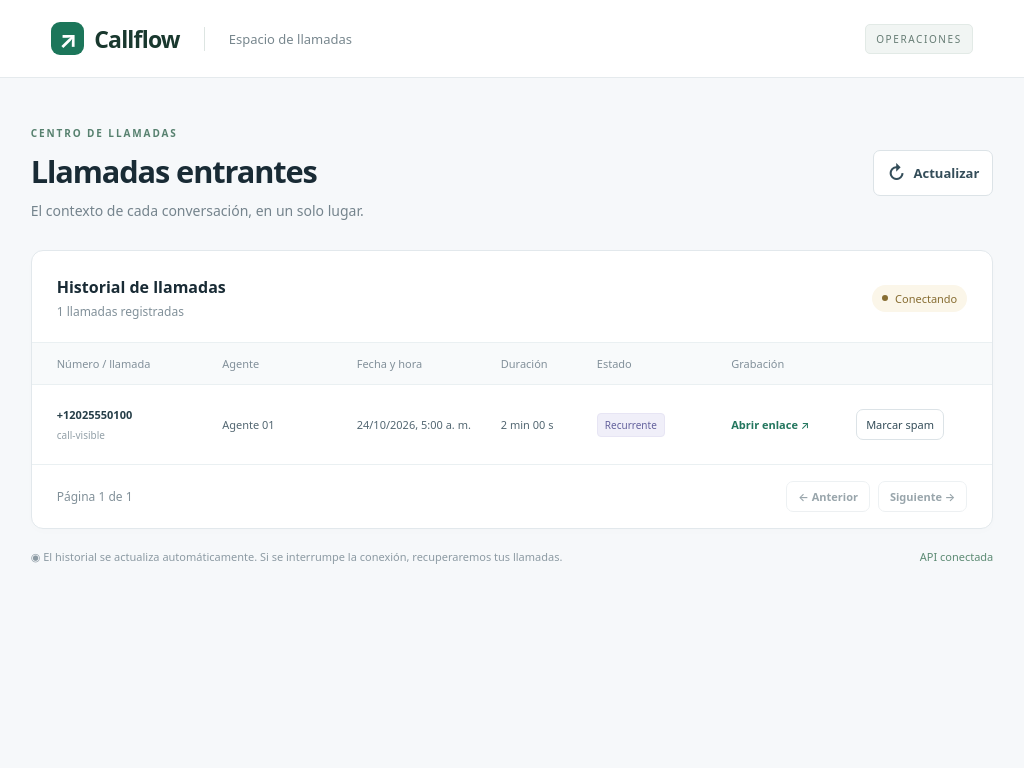
historial de llamadas › confirma spam con el servidor y evita reenvíos mientras está pendiente
Click the button "Marcar spam". click: x=900, y=424
box: [856, 409, 944, 440]
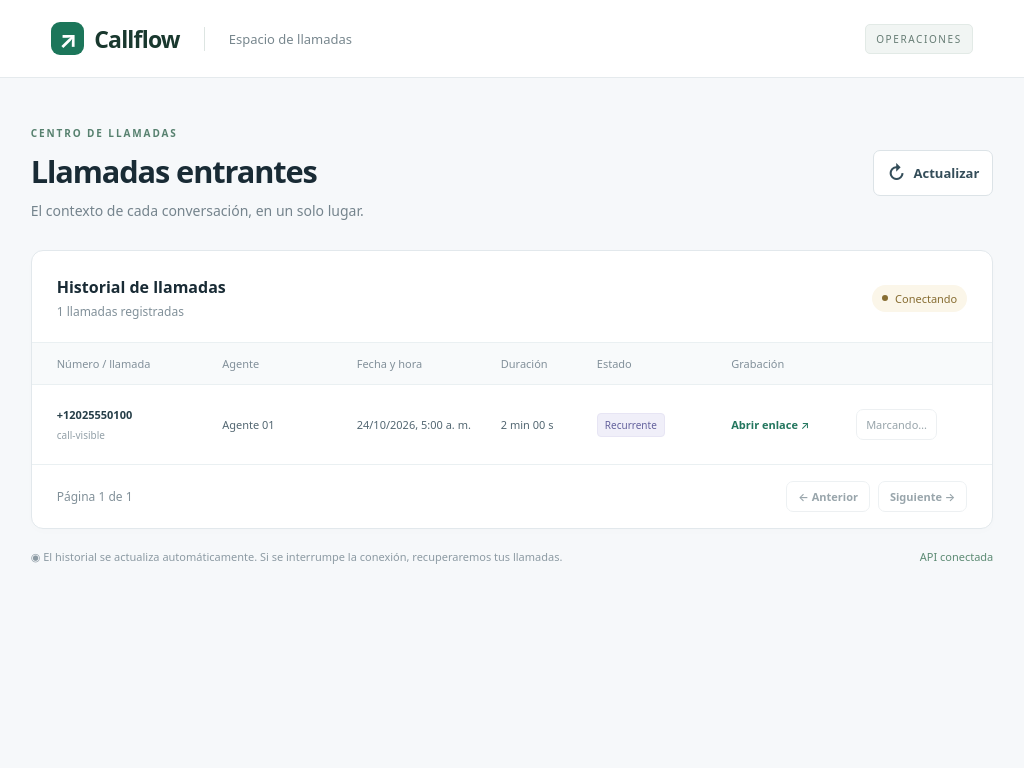
Click the button "Marcando…". click: x=896, y=424
box: [856, 409, 937, 440]
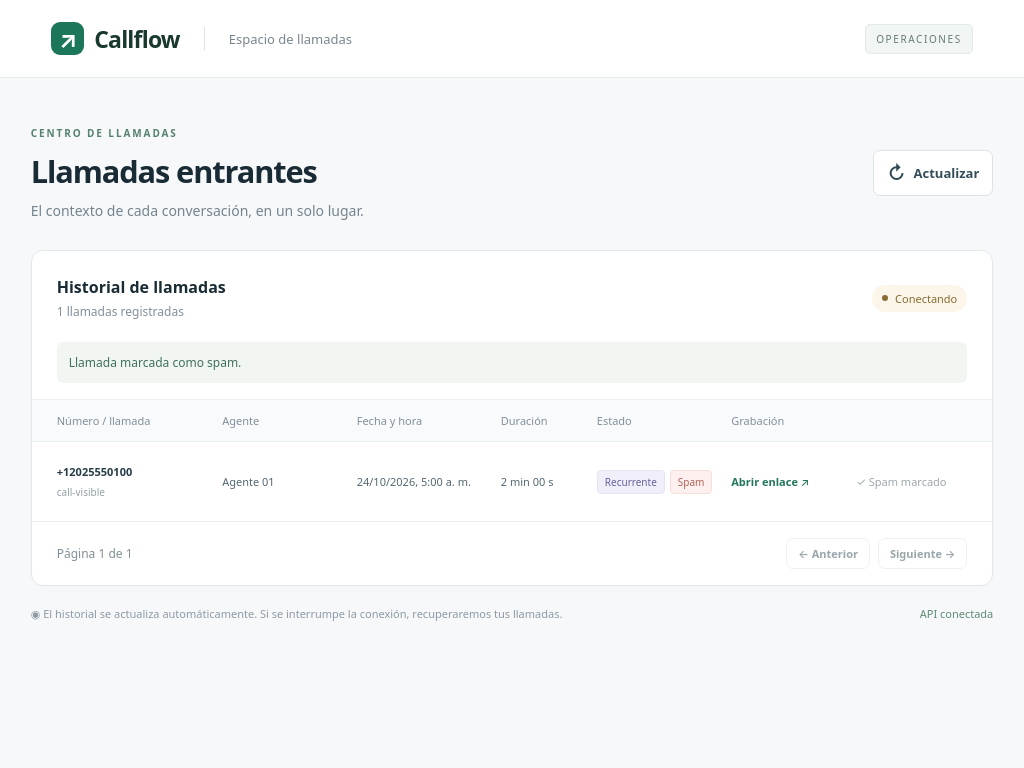
Check: the text "Llamada marcada como spam." is shown, box [57, 342, 967, 383]
Check: the text "Spam" is shown, box [670, 470, 712, 494]
Check: the text "✓ Spam marcado" is shown, box [856, 474, 946, 489]
